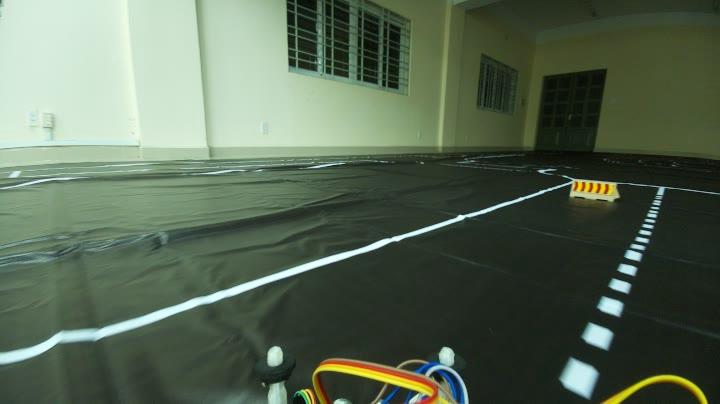roadblock: (566, 176, 621, 204)
